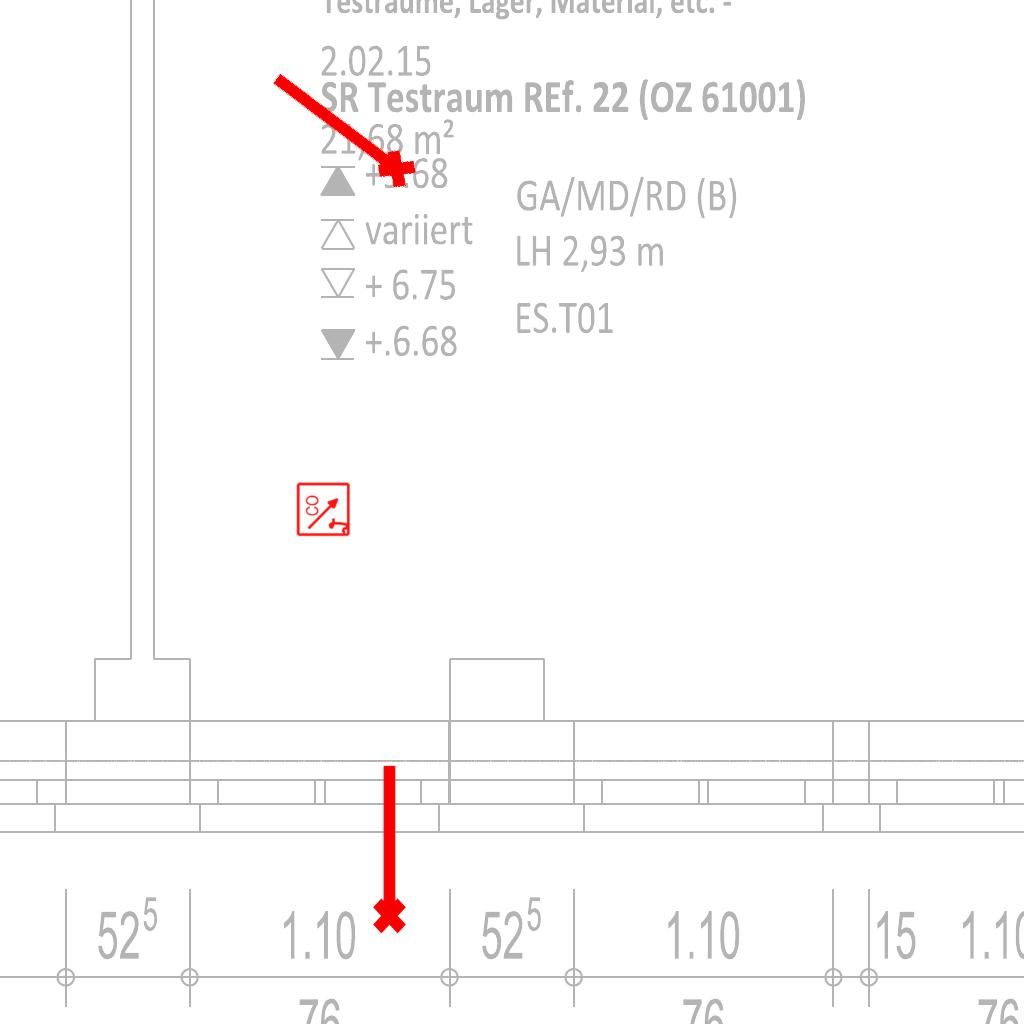ASR_Ansaugoeffnung: (256, 58, 426, 202), (364, 760, 410, 936)
ROA_Rauchmelder_optisch_mit_Signalgeber_(Sockelsirene): (296, 481, 352, 537)
